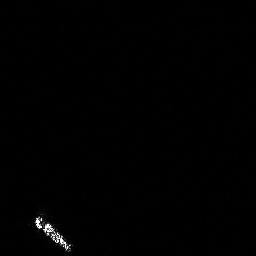ship: (28, 211, 79, 256)
